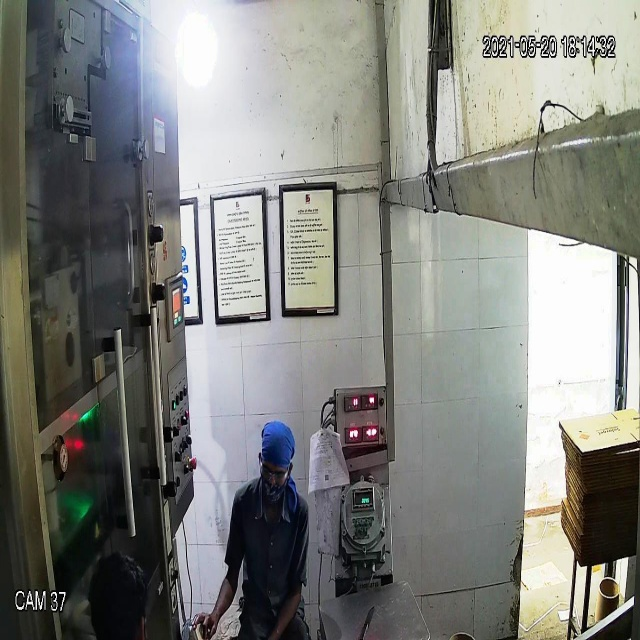Gafas: (255, 453, 295, 492)
